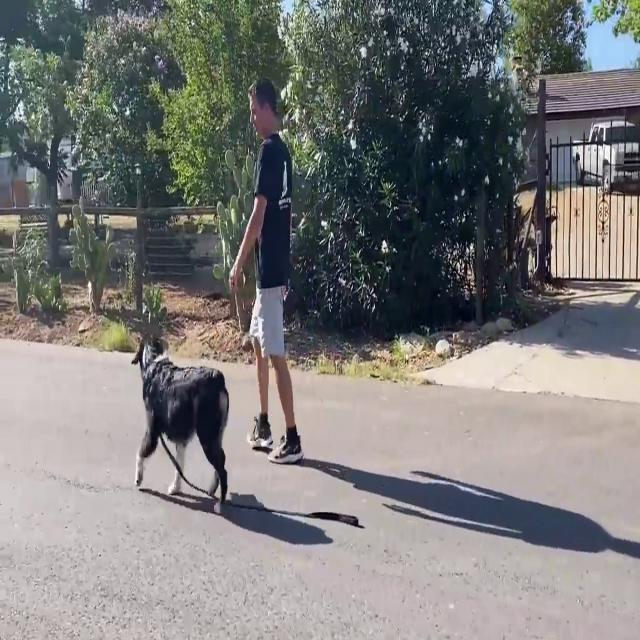Unleashed_Dog: (130, 279, 279, 512)
